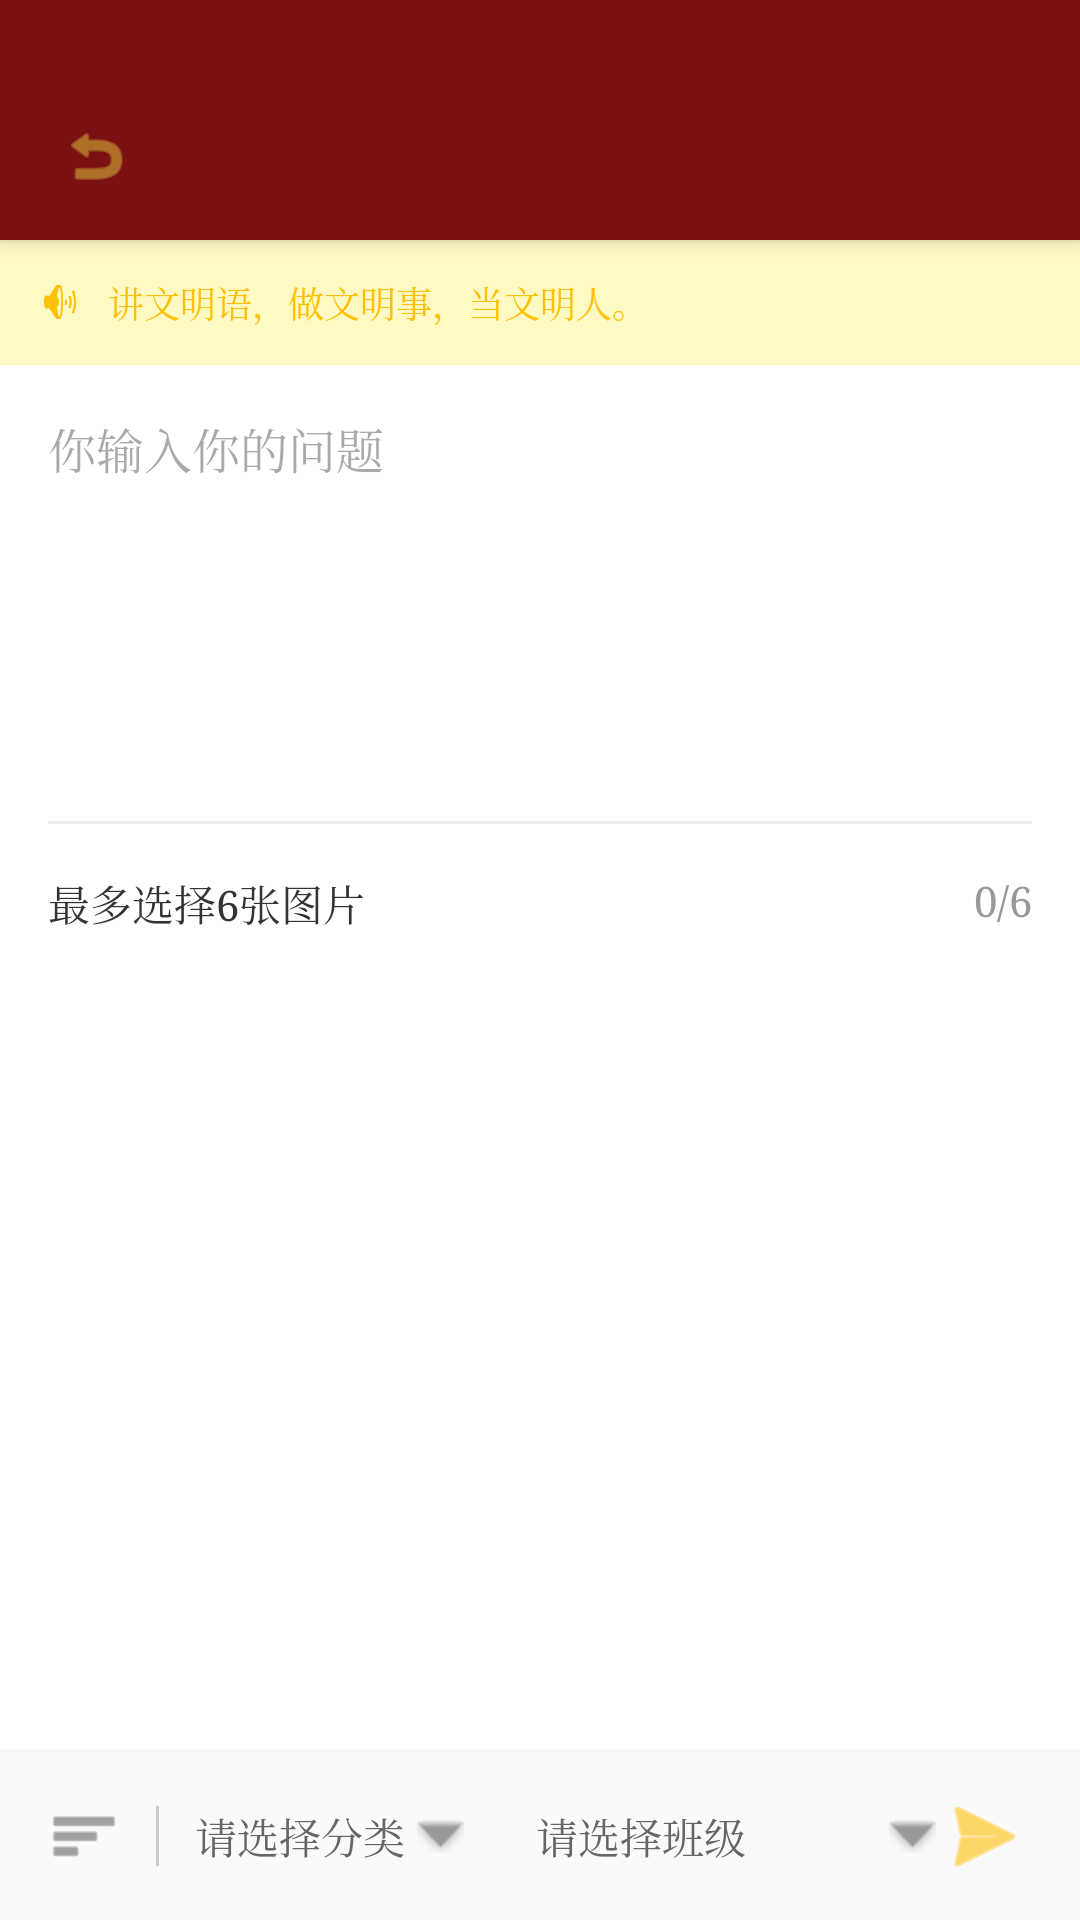

Point at icon controls on the screen. Image size 1080px x 1920px, points as point (x, y).
revert: point (97, 156)
send: point (985, 1836)
sort by size: point (84, 1836)
